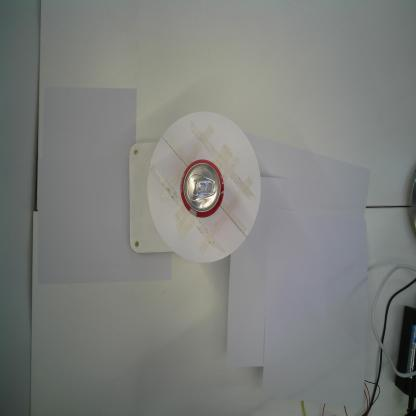Drink: (179, 157, 227, 221)
